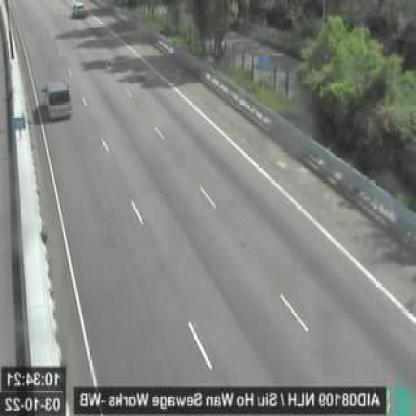Car: (43, 80, 73, 118)
